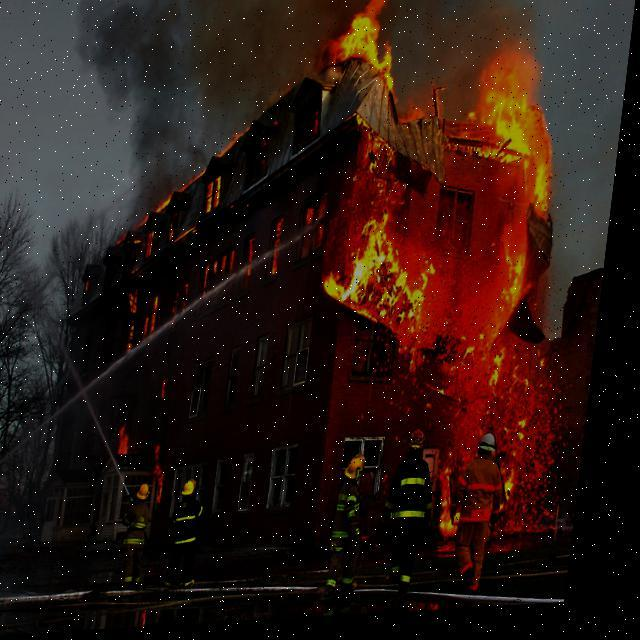Fire: (287, 0, 612, 566), (116, 418, 188, 509), (126, 274, 166, 350), (197, 176, 240, 223), (269, 216, 295, 290), (205, 264, 242, 295)
